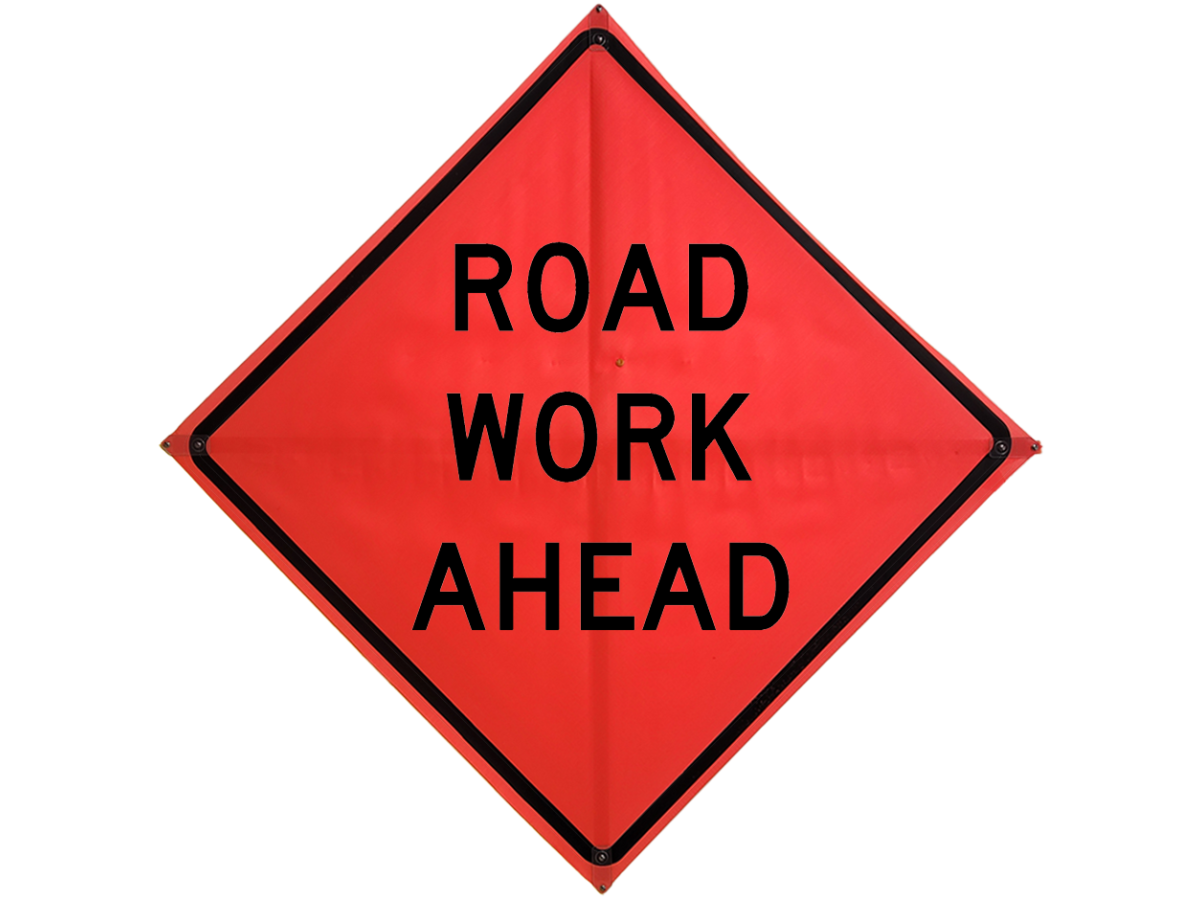Road_workahead: (161, 11, 1037, 900)
